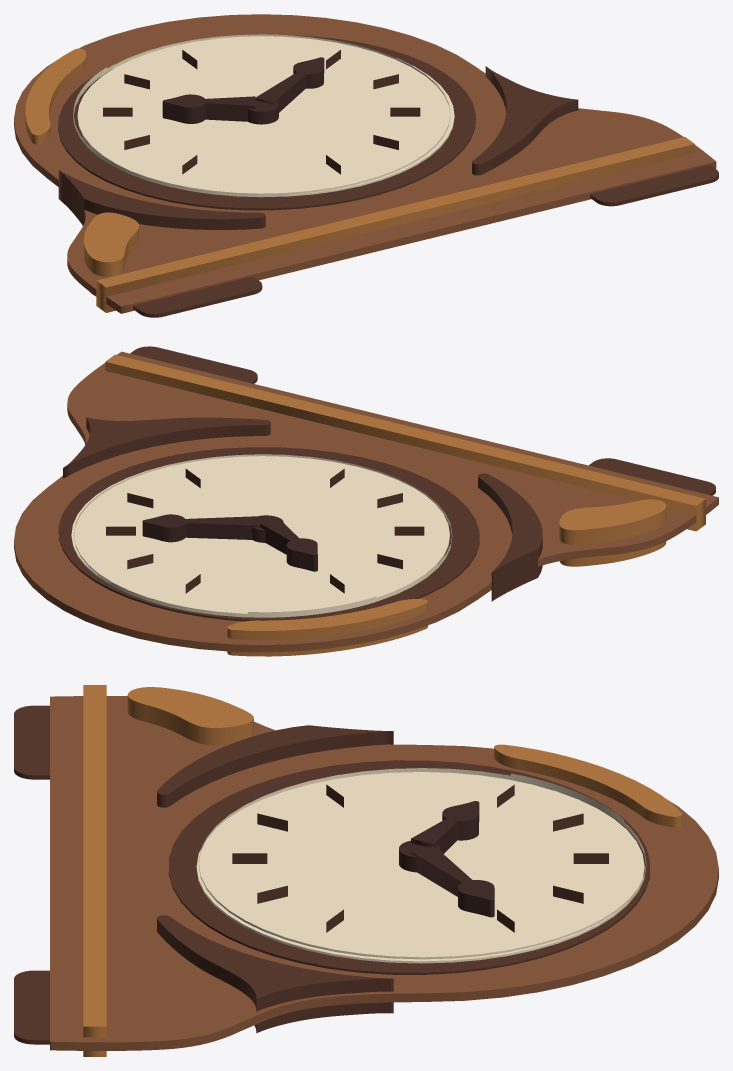
Rendered from emoji_u1f570.glb.
The picture shows the model from 3 angles, top to bottom: view 1: azimuth 30°, elevation 25°; view 2: azimuth 150°, elevation 25°; view 3: azimuth 270°, elevation 25°; orthographic projection. The views are drawn at different scales.
Visible parts, largest first — view 1: emoji_u1f570; view 2: emoji_u1f570; view 3: emoji_u1f570.
Part boxes in pixels (box(x1,y1,x2,y2)): emoji_u1f570: box(14, 14, 718, 317); emoji_u1f570: box(14, 346, 718, 656); emoji_u1f570: box(14, 685, 718, 1056).
Bounding box in the file's own units: 0.0344 × 0.0026 × 0.0296.
